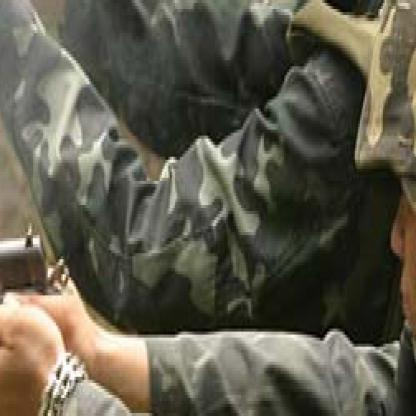gun: (0, 226, 65, 415)
